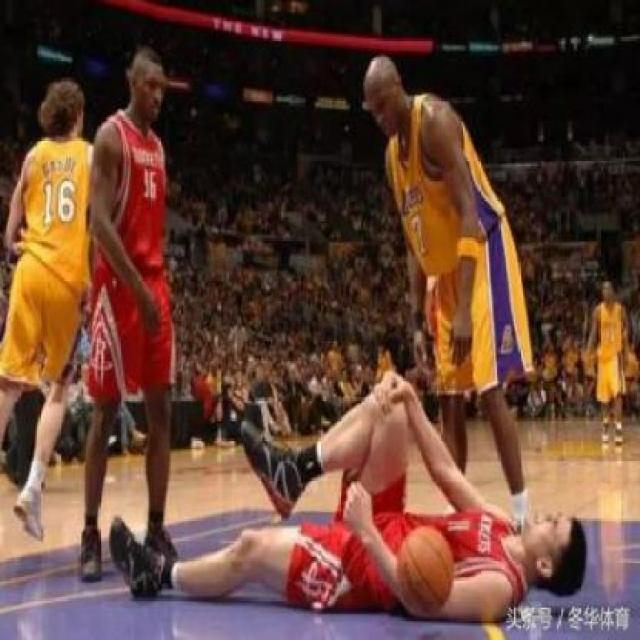fall: (103, 348, 591, 620)
